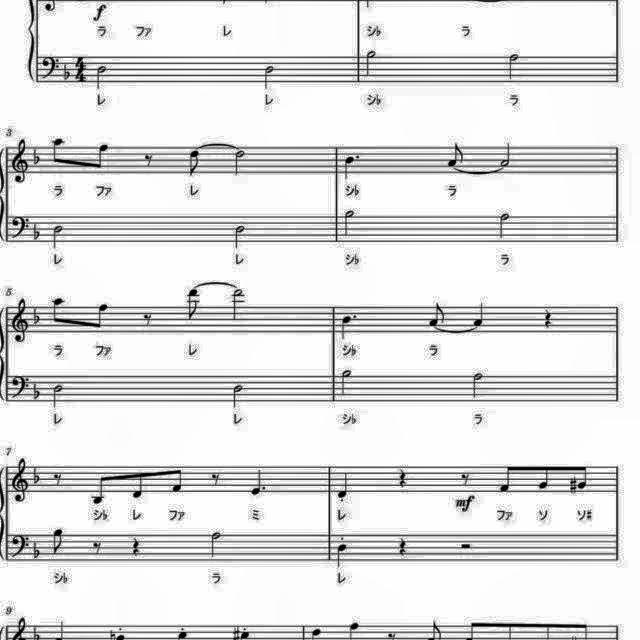Bass-clef: (38, 53, 62, 83), (8, 530, 30, 560), (9, 211, 31, 241), (9, 369, 29, 398)
Bemol: (30, 379, 46, 407), (31, 216, 45, 244), (30, 144, 46, 168), (32, 460, 44, 486), (61, 58, 74, 82), (30, 304, 42, 328), (32, 540, 44, 560)
Eighth-note: (86, 470, 110, 508), (88, 138, 112, 174), (181, 285, 203, 323), (49, 292, 71, 328), (88, 297, 110, 331), (444, 141, 468, 171), (50, 134, 70, 170), (130, 468, 150, 504), (183, 147, 204, 180), (168, 463, 188, 497), (496, 463, 516, 497), (424, 300, 448, 328), (534, 462, 554, 493), (50, 526, 70, 556), (573, 464, 591, 496)
Eighth-rest: (139, 150, 157, 172), (139, 310, 157, 330), (91, 538, 107, 558), (208, 468, 224, 488), (49, 468, 65, 488), (458, 468, 474, 488)
Half-note: (228, 286, 248, 324), (360, 48, 380, 84), (340, 206, 360, 242), (494, 209, 514, 243), (338, 366, 358, 399), (502, 49, 522, 82), (470, 366, 490, 399), (207, 529, 226, 563), (496, 140, 516, 172), (231, 222, 251, 252), (230, 148, 250, 178), (48, 221, 66, 251), (262, 62, 280, 92), (230, 380, 248, 410), (49, 381, 66, 411), (94, 62, 110, 92)
Half-rest: (456, 537, 476, 551)
Quarter-dot: (248, 466, 272, 500), (340, 150, 364, 182), (338, 311, 362, 341)
Quarter-note: (335, 471, 353, 504), (471, 300, 489, 328), (336, 540, 352, 568)
Quarter-rest: (394, 464, 411, 492), (128, 534, 146, 560), (540, 308, 558, 334), (396, 532, 412, 560)
Treble-clef: (8, 135, 32, 185), (8, 299, 32, 349), (9, 457, 31, 507)
